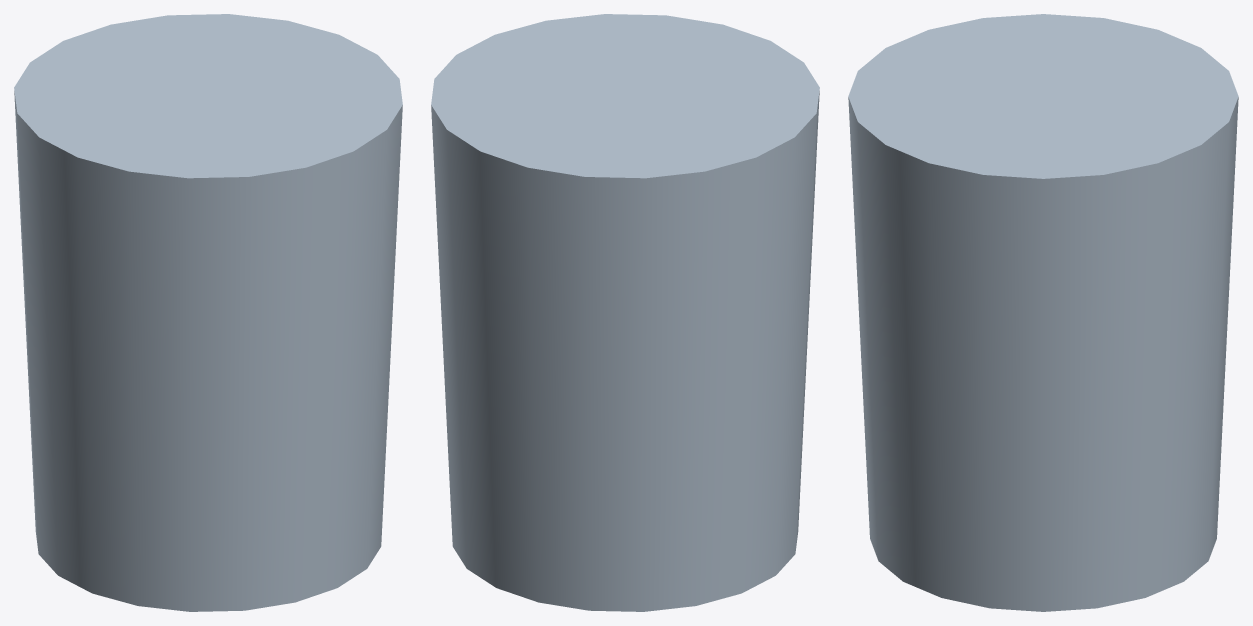
File: Drinking_Cup.glb
3 views of the same model, side by side, from view 1: azimuth 30°, elevation 25°; view 2: azimuth 150°, elevation 25°; view 3: azimuth 270°, elevation 25° (orthographic).
Visible parts, largest first — view 1: Cup; view 2: Cup; view 3: Cup.
Boxes of the visible parts, <box> form: Cup: <box>14,14,402,611</box>; Cup: <box>431,14,819,611</box>; Cup: <box>848,14,1238,611</box>.
Size of the model in its own units: 0.072 by 0.09 by 0.072.
